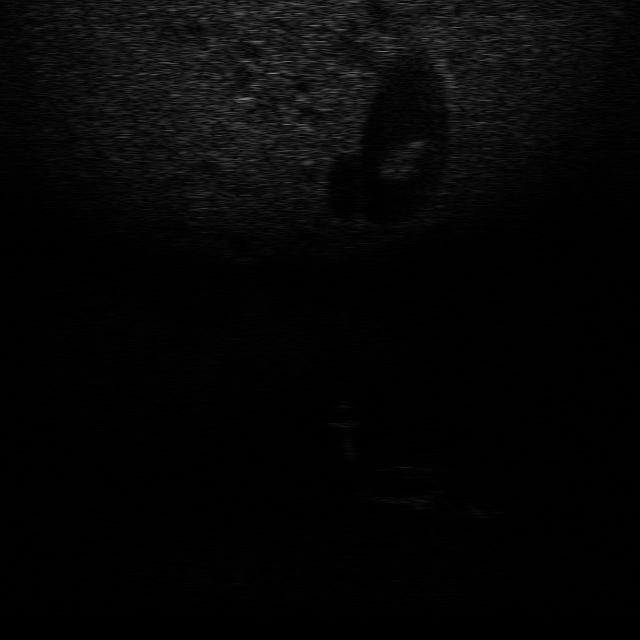ball: (317, 394, 368, 431)
tyre: (355, 463, 446, 507)
